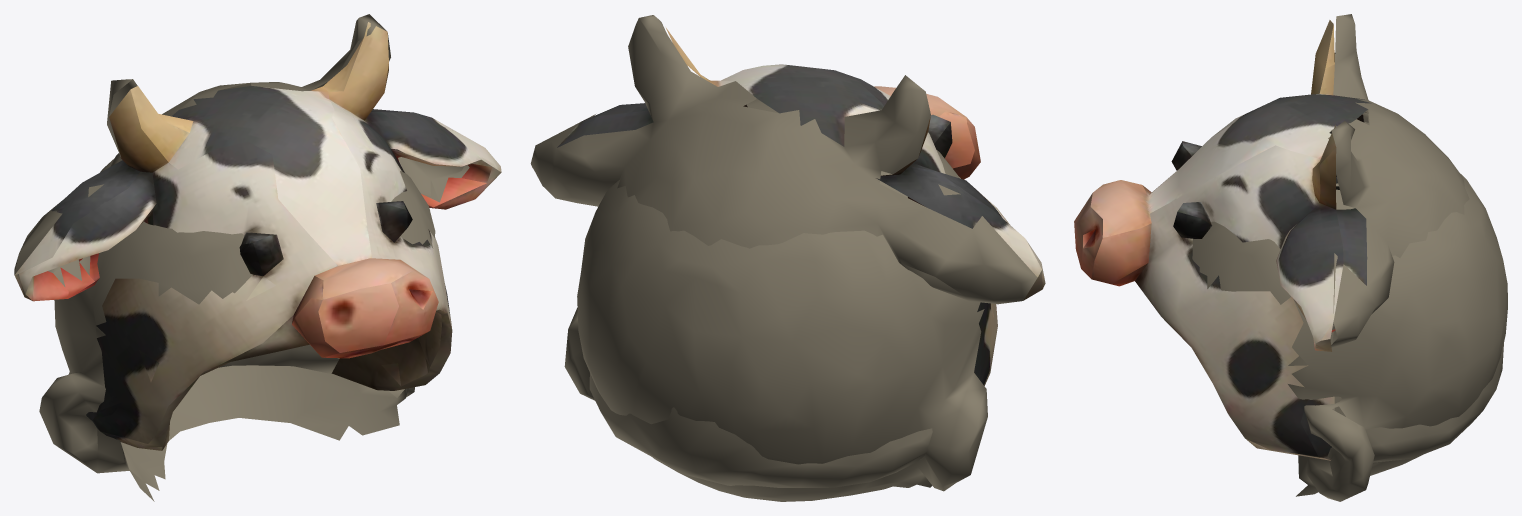
The model's file is cow.glb.
3 renders of one model, left to right at view 1: azimuth 30°, elevation 25°; view 2: azimuth 150°, elevation 25°; view 3: azimuth 270°, elevation 25°, orthographic. The views are drawn at different scales.
Visible parts, largest first — view 1: geometry_0, HoodAnatomicalLining; view 2: geometry_0, HoodAnatomicalLining; view 3: geometry_0, HoodAnatomicalLining.
Part boxes in pixels (left/top/right/bottom): geometry_0: left=14, top=14, right=501, bottom=450; HoodAnatomicalLining: left=39, top=158, right=435, bottom=501; geometry_0: left=530, top=15, right=1045, bottom=487; HoodAnatomicalLining: left=564, top=99, right=987, bottom=501; geometry_0: left=1074, top=14, right=1503, bottom=462; HoodAnatomicalLining: left=1192, top=122, right=1507, bottom=501.
Bounding box in the file's own units: 0.6314 × 0.5112 × 0.5229.
Materials: 2 (1 with a texture image).
